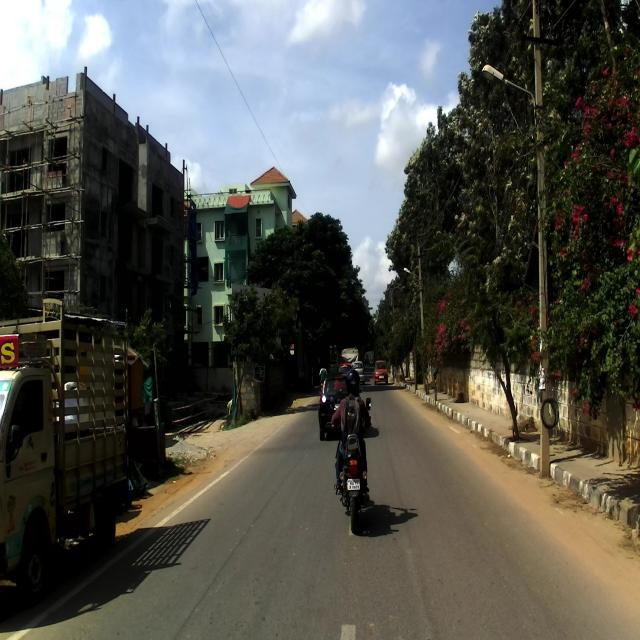Car_Maruti-Suzuki: (373, 358, 390, 388)
motorcycle_bajaj: (328, 395, 373, 532)
truck: (0, 296, 130, 606)
